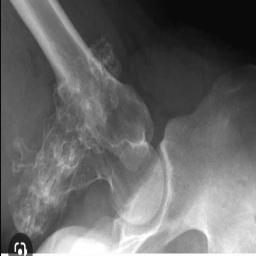cancer: (7, 35, 135, 242)
